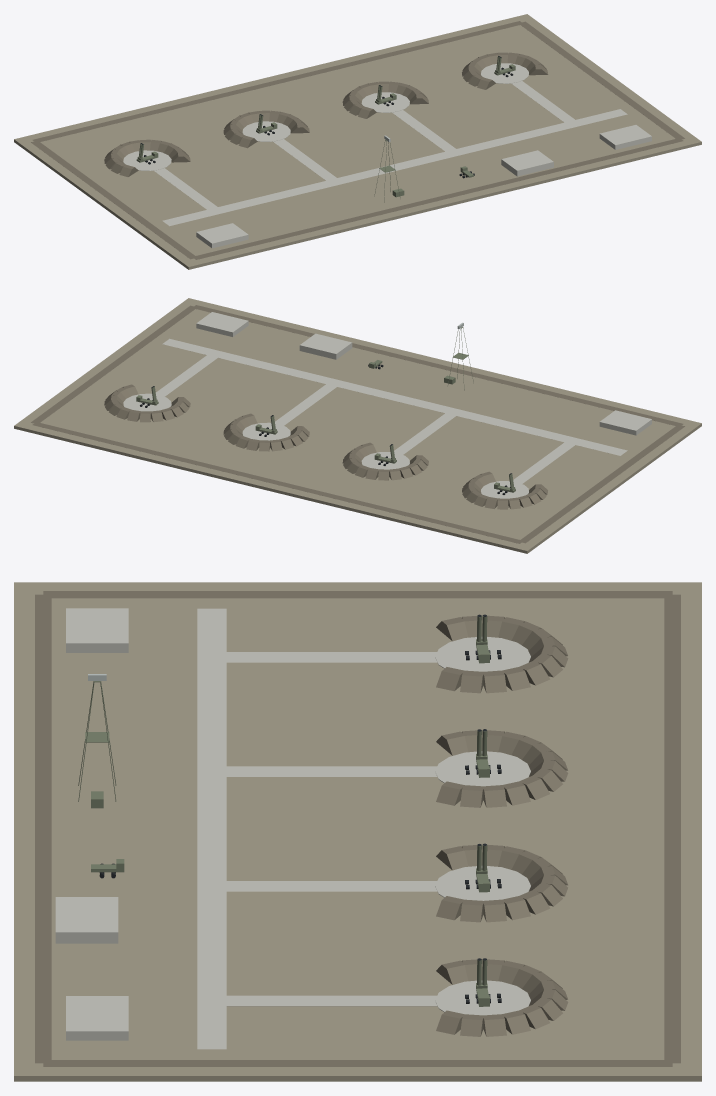
The model's file is rfn_battery_bastion.glb.
The picture shows the model from 3 angles, top to bottom: view 1: azimuth 30°, elevation 25°; view 2: azimuth 150°, elevation 25°; view 3: azimuth 270°, elevation 25°; orthographic projection. The views are drawn at different scales.
Visible parts, largest first — view 1: earth, earth_dark, concrete, drab; view 2: earth, earth_dark, concrete, drab; view 3: earth, earth_dark, concrete, drab.
Boxes of the visible parts, <box> form: earth: <box>14,14,701,269</box>; earth_dark: <box>31,21,684,259</box>; concrete: <box>123,63,651,248</box>; drab: <box>136,56,515,202</box>; earth: <box>14,298,701,553</box>; earth_dark: <box>31,305,684,543</box>; concrete: <box>123,312,651,498</box>; drab: <box>136,327,515,492</box>; earth: <box>14,582,701,1081</box>; earth_dark: <box>35,591,680,1066</box>; concrete: <box>55,608,530,1049</box>; drab: <box>78,615,489,1006</box>.
Bounding box in the file's own units: 10 × 1.18 × 5.89.
